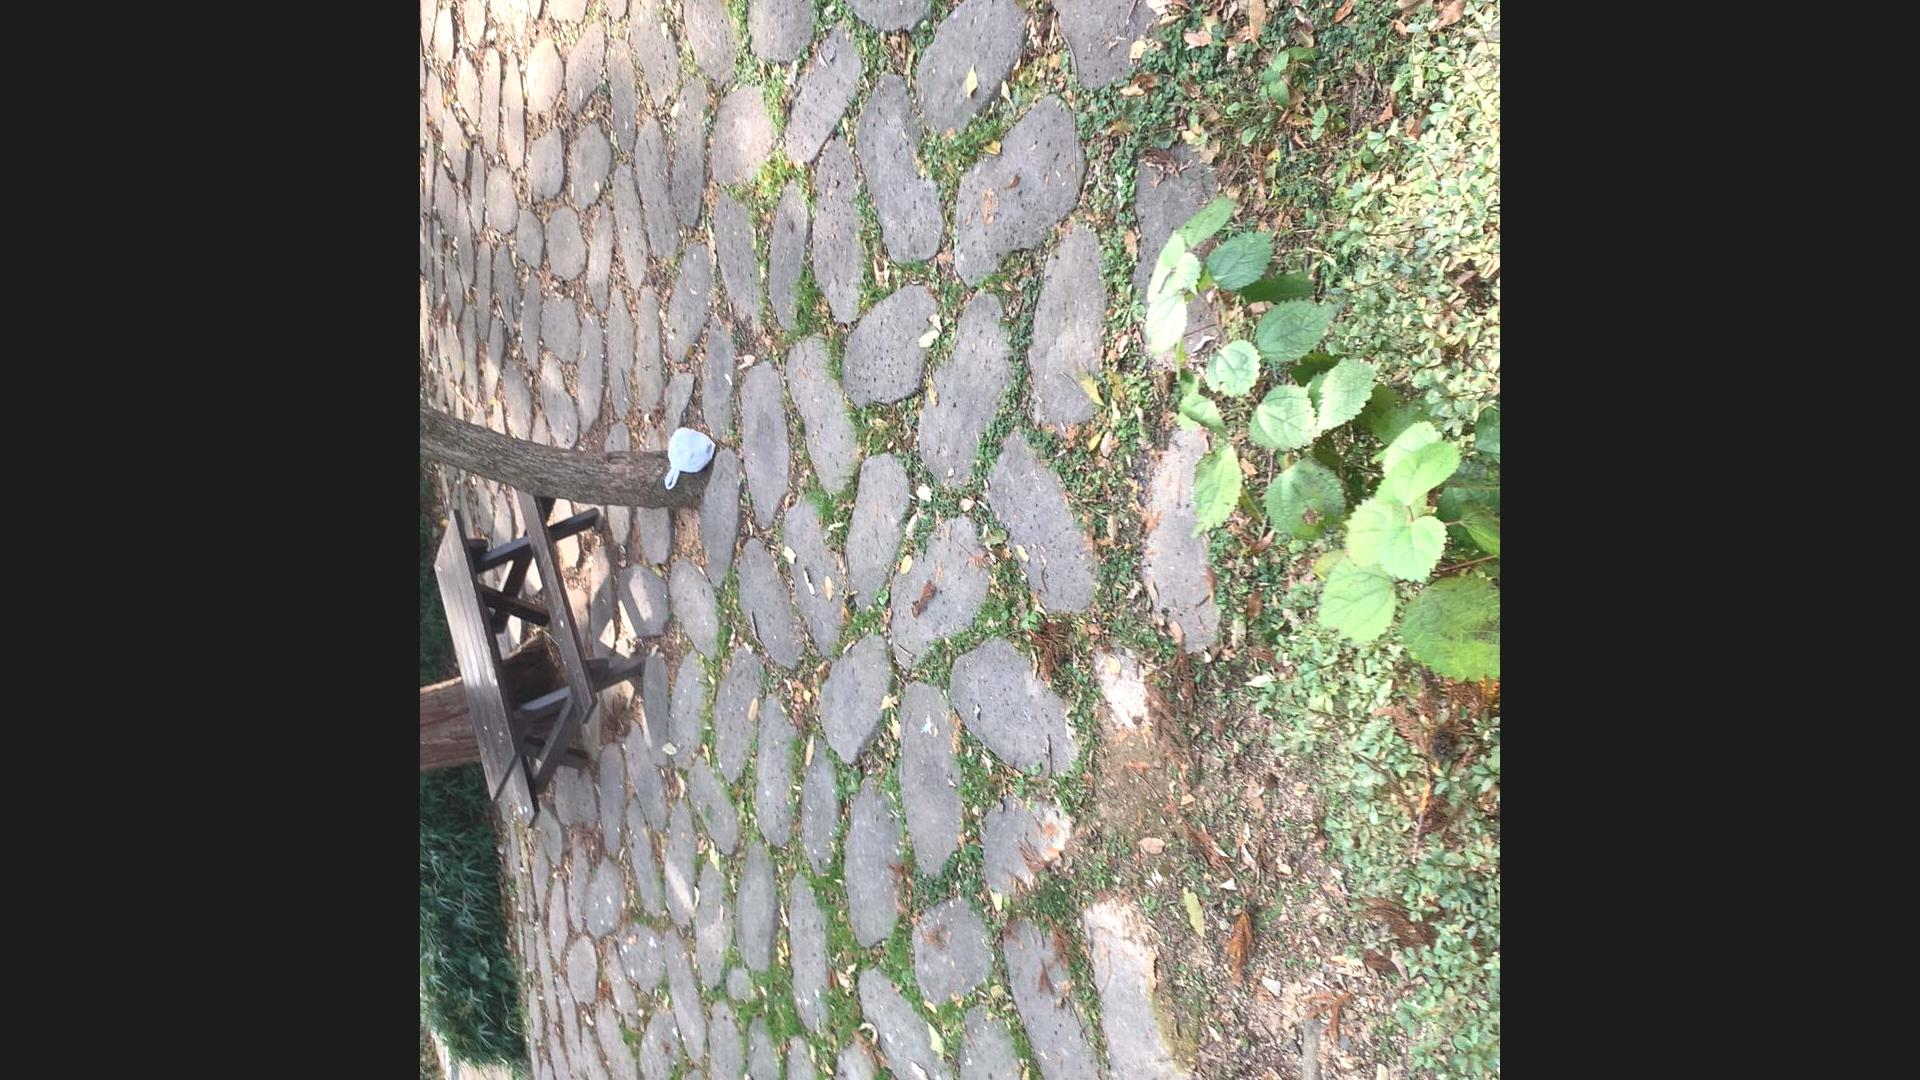white_bag: (662, 423, 717, 491)
